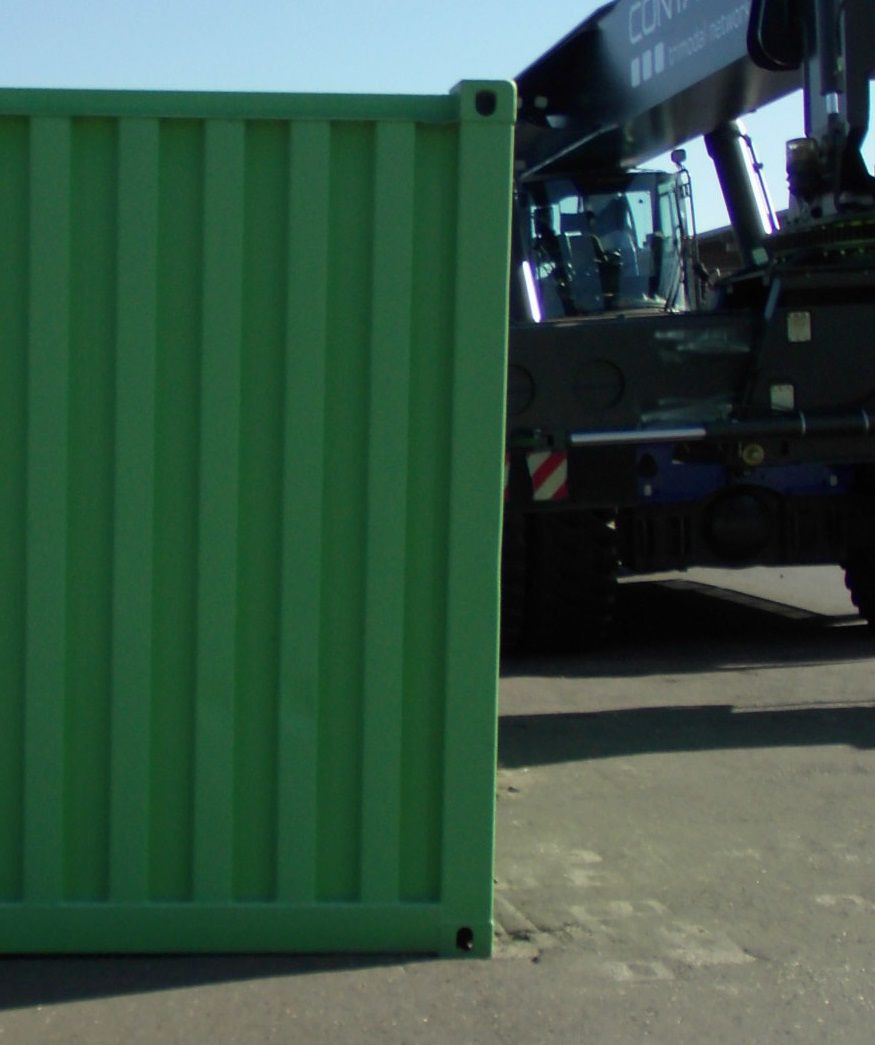container_no_door: (5, 76, 510, 965)
